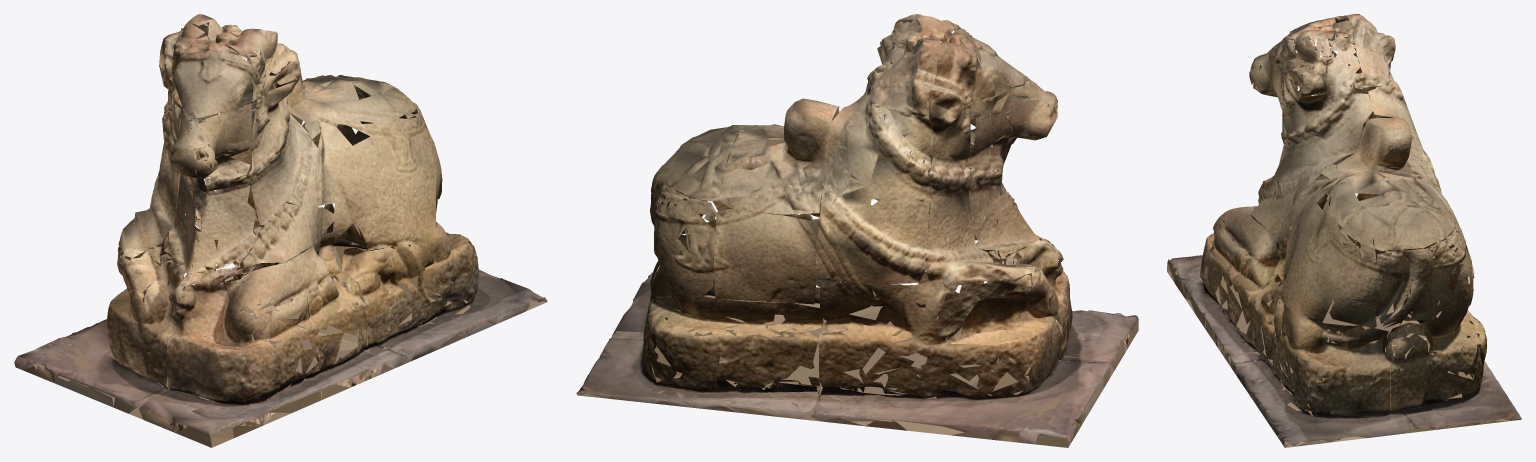
Rendered from nandi-lo.glb.
3 renders of one model, left to right at view 1: azimuth 30°, elevation 25°; view 2: azimuth 150°, elevation 25°; view 3: azimuth 270°, elevation 25°, orthographic. The views are drawn at different scales.
Visible parts, largest first — view 1: Object_7, Object_11, Object_9, Object_8, Object_2, Object_3, Object_4, Object_6, Object_5, Object_10; view 2: Object_5, Object_4, Object_3, Object_6, Object_2, Object_8, Object_7, Object_10, Object_11, Object_9; view 3: Object_9, Object_11, Object_6, Object_7, Object_2, Object_5, Object_4, Object_10, Object_3, Object_8.
Part boxes in pixels (left/top/right/bottom): Object_7: left=129, top=97, right=393, bottom=447; Object_11: left=159, top=22, right=441, bottom=250; Object_9: left=163, top=36, right=547, bottom=368; Object_8: left=164, top=94, right=417, bottom=438; Object_2: left=118, top=20, right=442, bottom=257; Object_3: left=14, top=14, right=296, bottom=413; Object_4: left=24, top=85, right=418, bottom=407; Object_6: left=188, top=50, right=410, bottom=346; Object_5: left=153, top=59, right=377, bottom=282; Object_10: left=164, top=75, right=546, bottom=346; Object_5: left=643, top=94, right=984, bottom=412; Object_4: left=650, top=165, right=1103, bottom=442; Object_3: left=811, top=14, right=1110, bottom=447; Object_6: left=577, top=98, right=1050, bottom=421; Object_2: left=672, top=14, right=1035, bottom=304; Object_8: left=576, top=71, right=1138, bottom=412; Object_7: left=839, top=70, right=1138, bottom=398; Object_10: left=648, top=106, right=928, bottom=296; Object_11: left=712, top=41, right=995, bottom=217; Object_9: left=614, top=28, right=1027, bottom=333; Object_9: left=1230, top=17, right=1402, bottom=447; Object_11: left=1269, top=15, right=1372, bottom=322; Object_6: left=1258, top=117, right=1521, bottom=428; Object_7: left=1167, top=45, right=1406, bottom=366; Object_2: left=1281, top=20, right=1468, bottom=328; Object_5: left=1250, top=63, right=1495, bottom=398; Object_4: left=1290, top=177, right=1474, bottom=339; Object_10: left=1260, top=77, right=1455, bottom=447; Object_3: left=1268, top=14, right=1437, bottom=323; Object_8: left=1167, top=46, right=1521, bottom=433.
Bounding box in the file's own units: 49.25 × 33.35 × 36.02.
2 materials, 2 textured.
